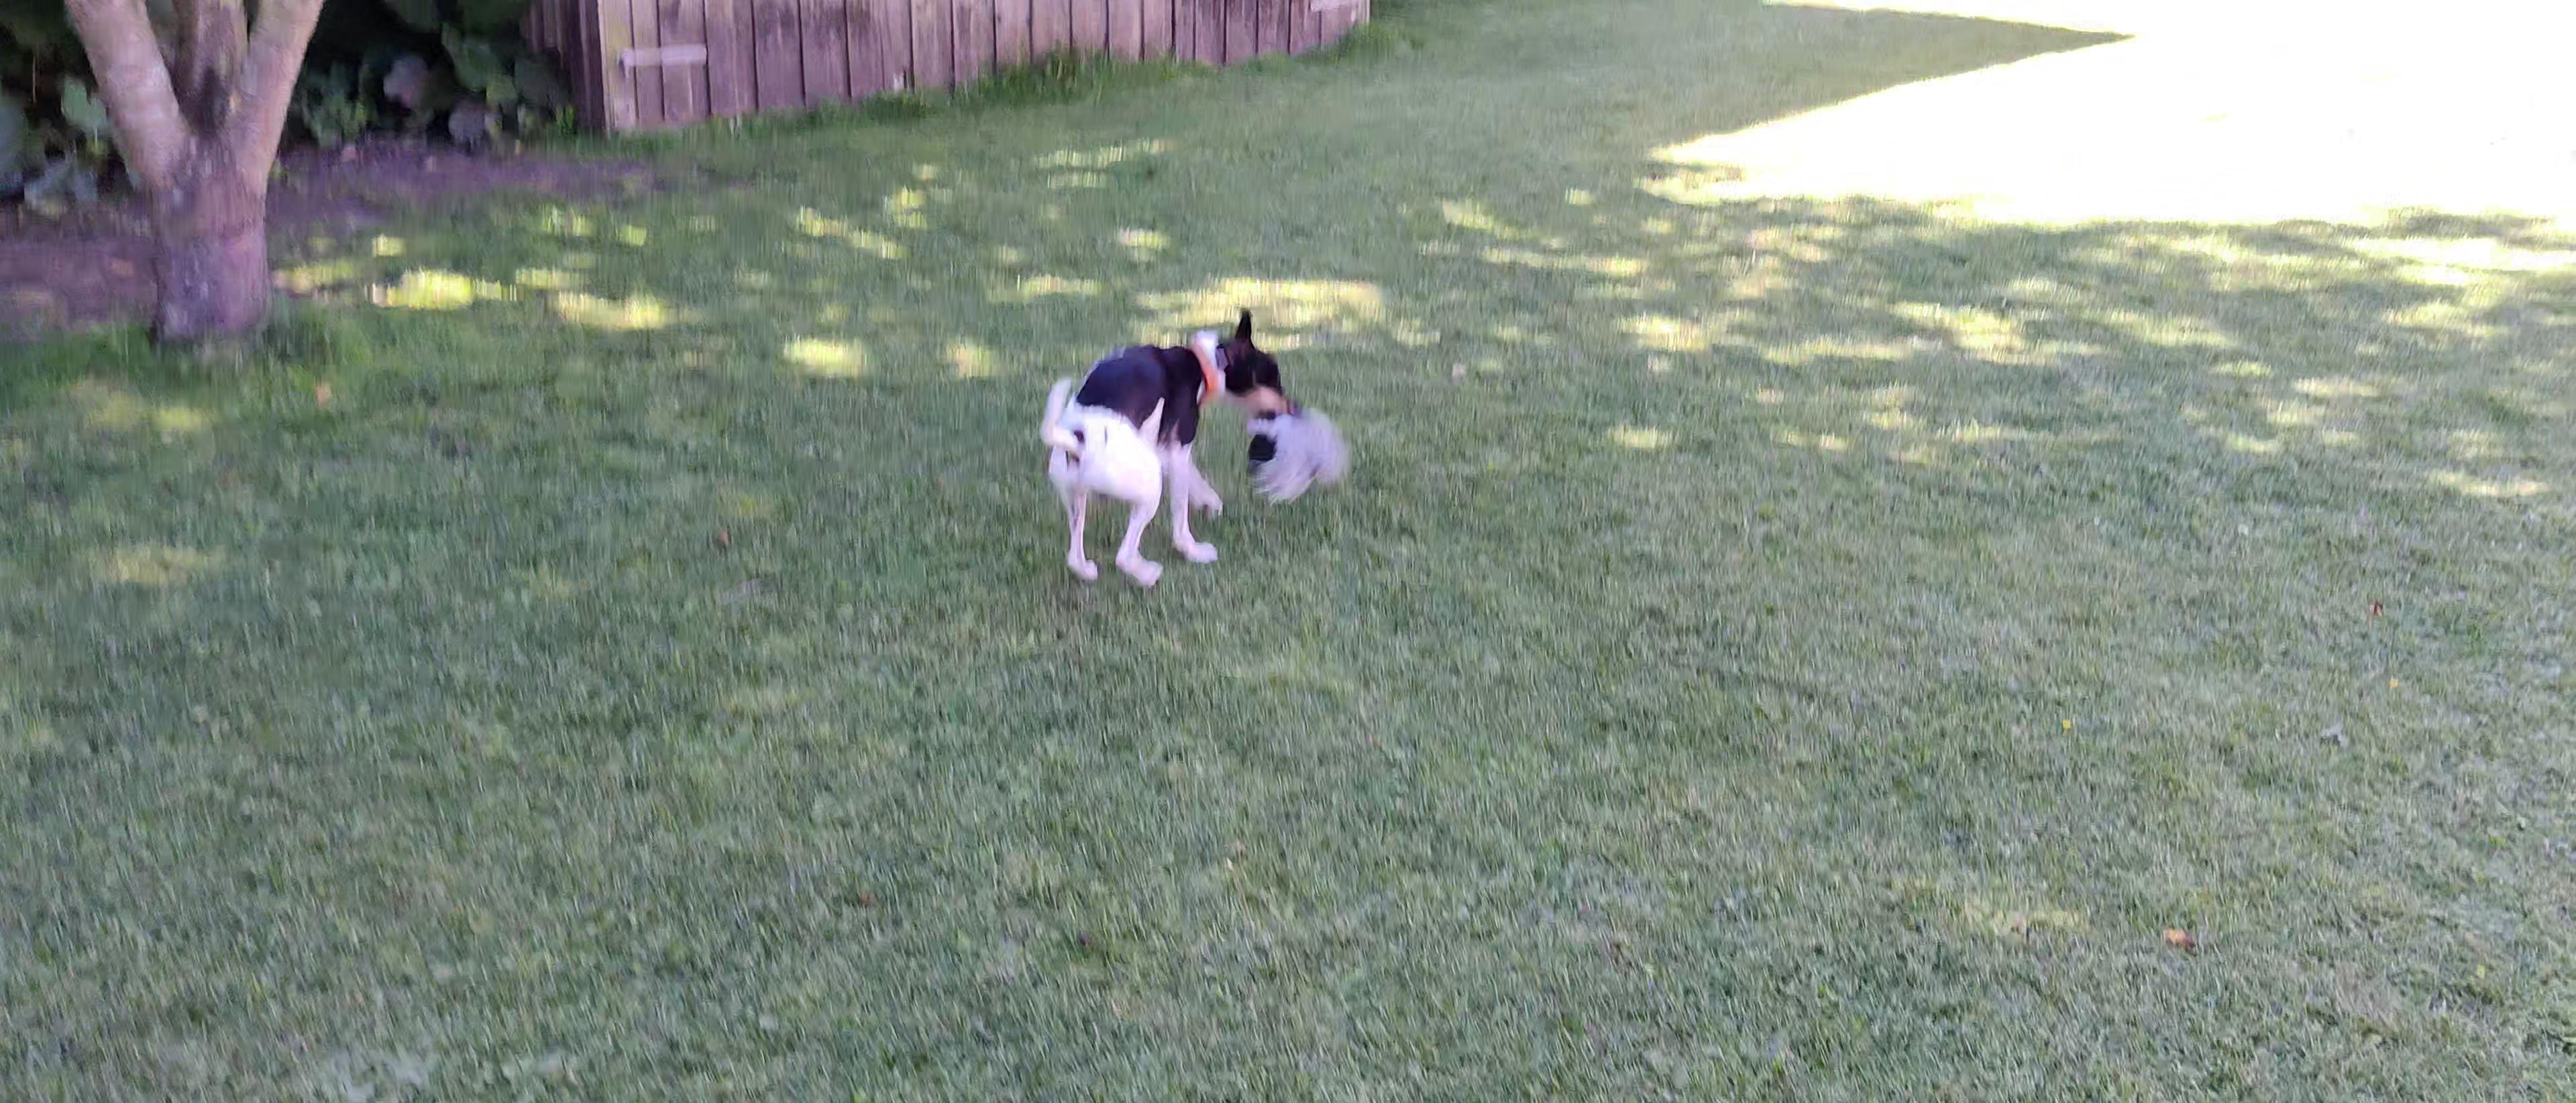Dog: (1033, 302, 1301, 588)
